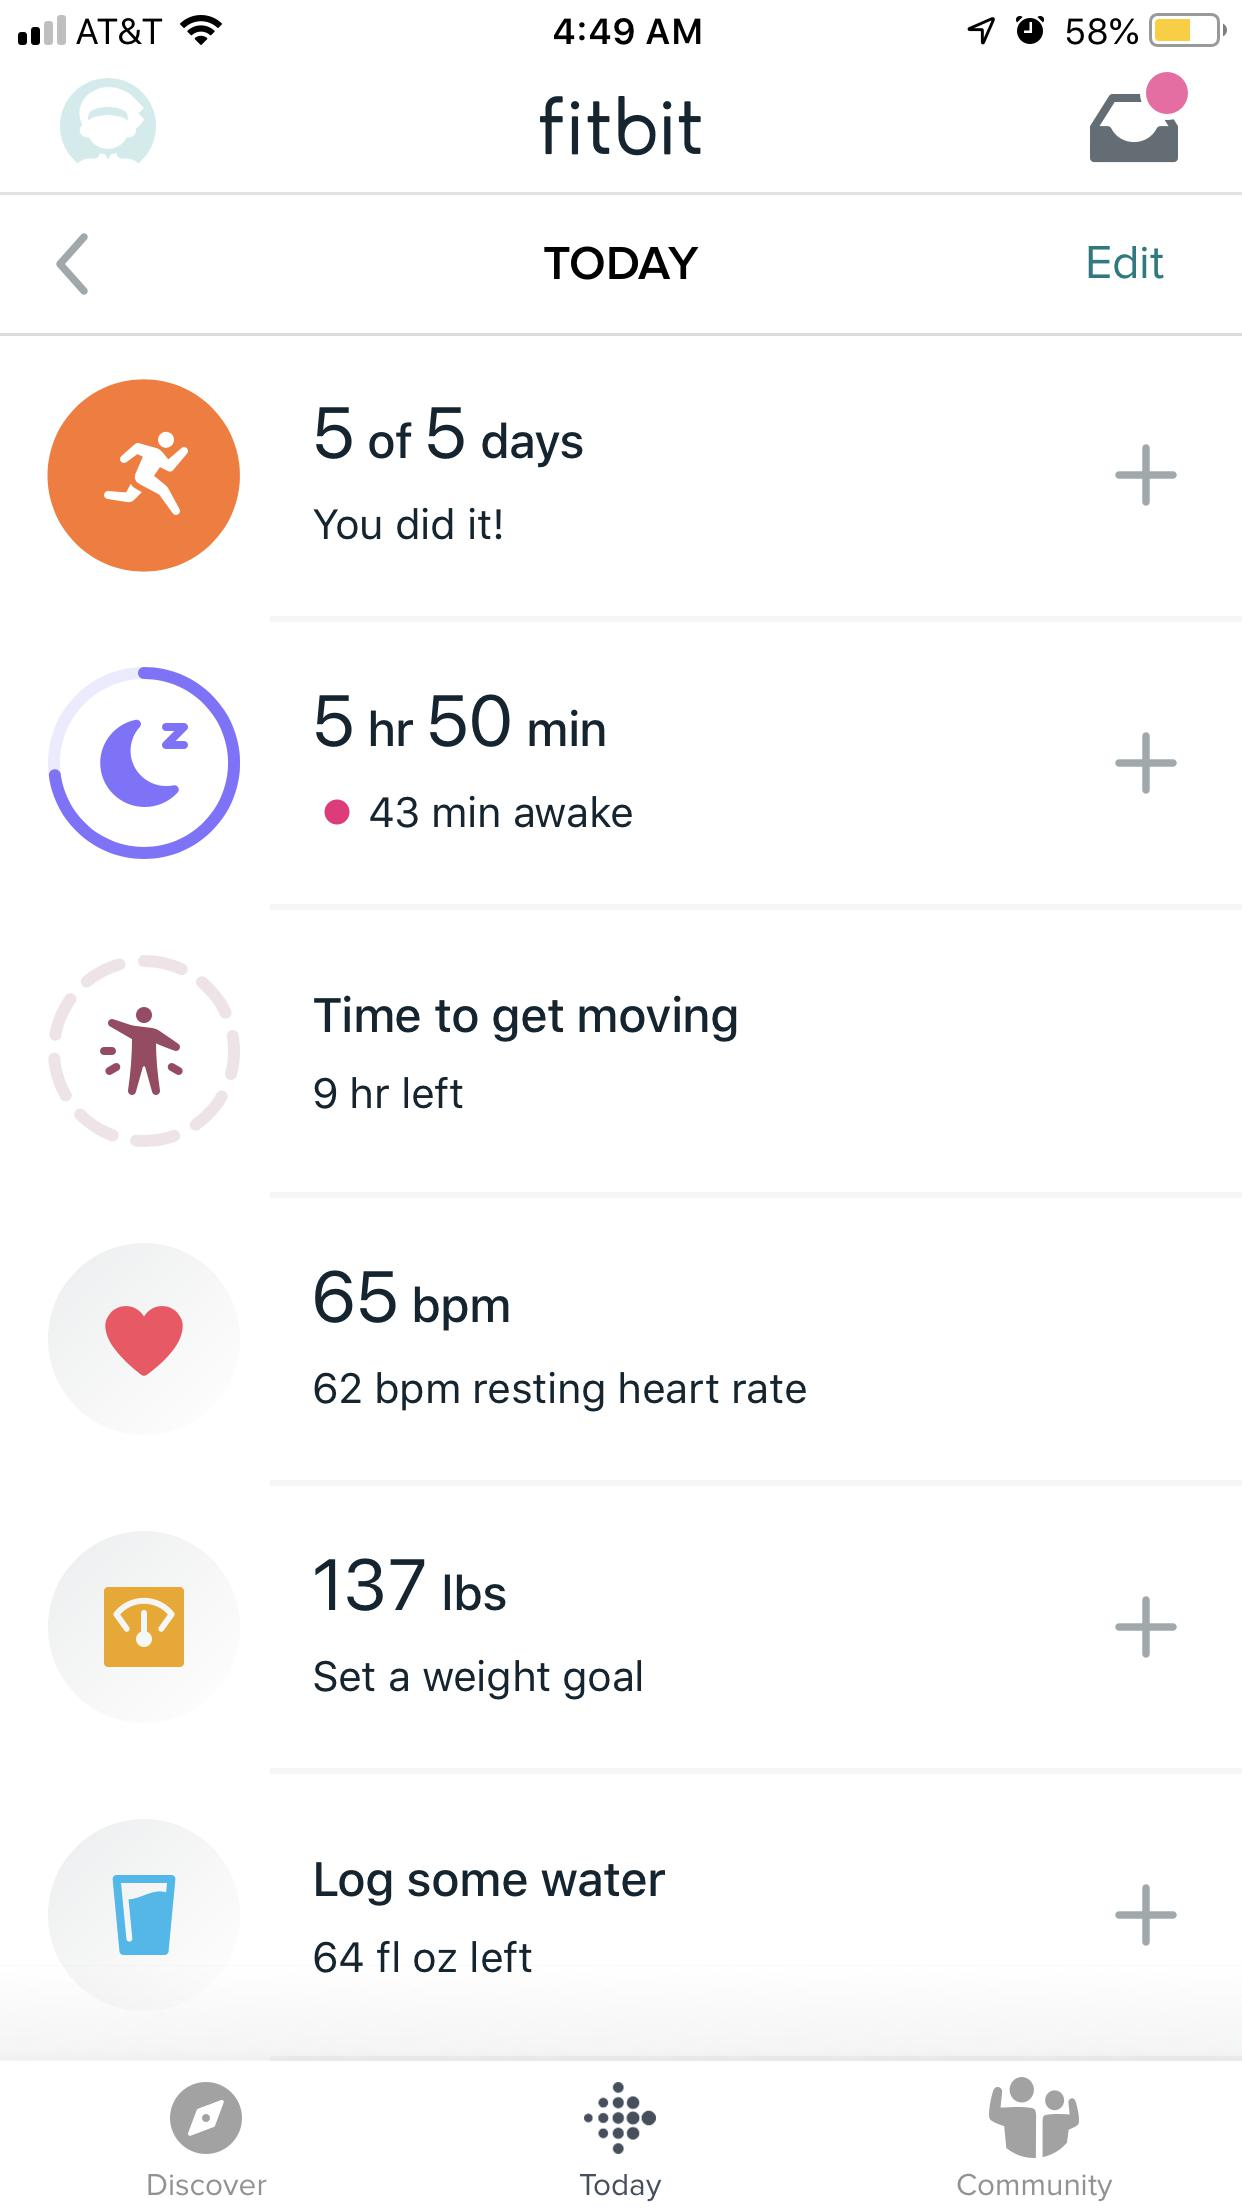Icon: (49, 1244, 243, 1435), (170, 2081, 244, 2155), (1115, 1595, 1178, 1659), (1115, 1883, 1178, 1946), (1115, 732, 1178, 795), (1115, 444, 1177, 508), (56, 227, 86, 291)
Image: (49, 1818, 241, 2012), (50, 376, 241, 572), (49, 1532, 241, 1724), (45, 663, 238, 855), (50, 954, 243, 1146), (1089, 71, 1189, 164), (61, 77, 158, 168), (989, 2076, 1081, 2159), (582, 2081, 657, 2155)
Text: (314, 1369, 808, 1413), (309, 993, 737, 1043), (314, 402, 582, 472), (315, 692, 607, 751), (315, 1861, 666, 1908), (314, 1658, 643, 1700), (314, 1269, 511, 1333), (314, 1557, 507, 1614), (538, 96, 707, 158), (369, 793, 632, 831), (314, 1938, 534, 1974), (314, 503, 503, 544), (541, 243, 699, 281), (312, 1074, 464, 1109), (955, 2172, 1115, 2202), (149, 2172, 268, 2196), (1087, 246, 1165, 281), (579, 2173, 663, 2202)
UpperTaskBar: (2, 2, 1242, 49)
